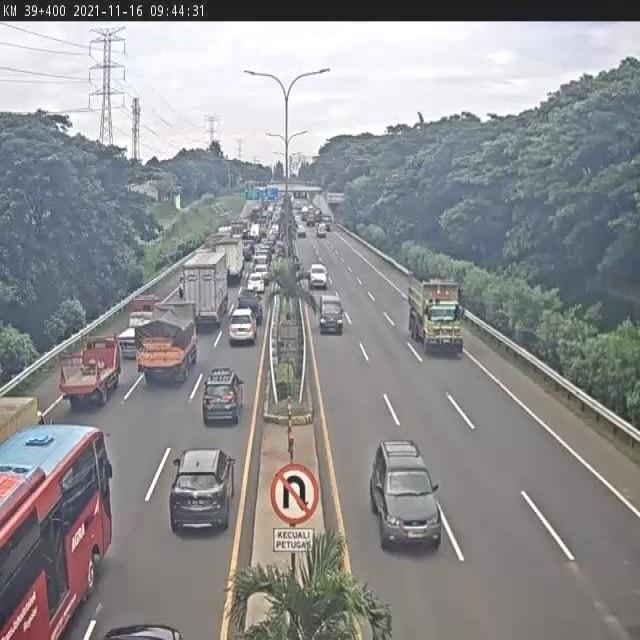Bus: (0, 419, 116, 640)
Car: (369, 440, 442, 552), (169, 446, 236, 533), (200, 367, 246, 426), (98, 624, 183, 640), (228, 307, 258, 346), (236, 290, 264, 325), (308, 264, 328, 289), (246, 272, 266, 294), (252, 264, 270, 286), (242, 242, 254, 260), (253, 254, 270, 266), (320, 215, 332, 230), (316, 223, 326, 238), (296, 224, 306, 238)
Truck: (132, 299, 200, 386), (407, 271, 467, 354), (57, 333, 121, 410), (181, 250, 231, 331), (0, 395, 55, 451), (119, 296, 165, 358), (213, 235, 246, 286), (250, 224, 260, 242)
Van: (318, 293, 344, 334)
